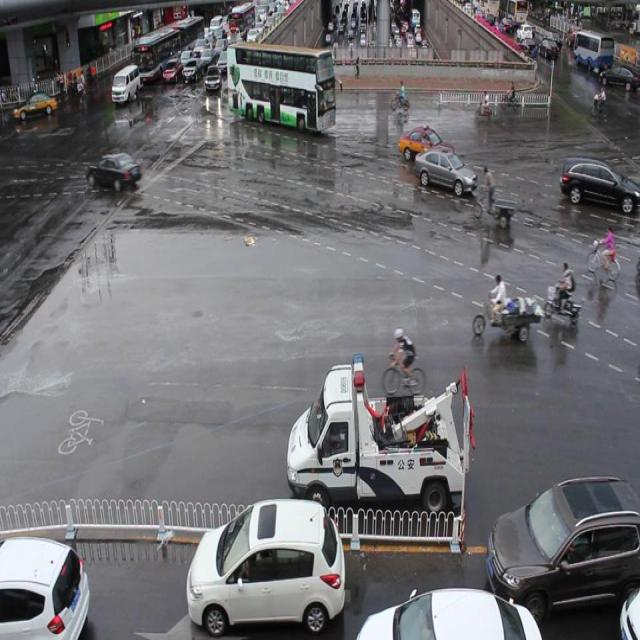bus: (287, 352, 473, 518)
car: (488, 471, 640, 618), (186, 496, 345, 628), (356, 583, 541, 640), (1, 532, 90, 640), (559, 155, 640, 215), (414, 148, 474, 196), (399, 126, 455, 166), (619, 588, 640, 640)
van: (226, 41, 336, 134)
